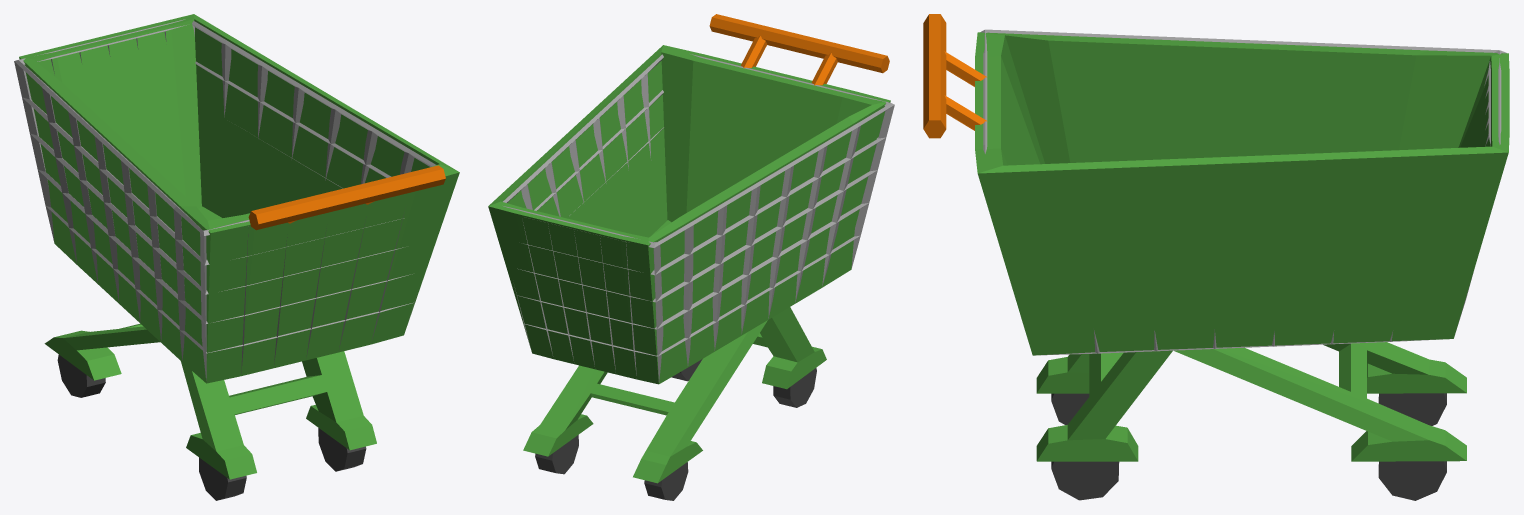
The model's file is market_arabas_revize.fbx.
3 renders of one model, left to right at view 1: azimuth 30°, elevation 25°; view 2: azimuth 150°, elevation 25°; view 3: azimuth 270°, elevation 25°, orthographic. The views are drawn at different scales.
Parts seen in each view (by area): view 1: Plane.002, Plane, Plane.001; view 2: Plane.002, Plane, Plane.001; view 3: Plane.002, Plane, Plane.001.
Part boxes in pixels (x1,y1,x2,y2): Plane.002: [19, 14, 459, 383]; Plane: [44, 165, 445, 500]; Plane.001: [14, 19, 436, 380]; Plane.002: [488, 45, 890, 384]; Plane: [523, 14, 889, 500]; Plane.001: [503, 54, 894, 382]; Plane.002: [975, 32, 1509, 355]; Plane: [923, 14, 1466, 500]; Plane.001: [980, 29, 1506, 355].
Bounding box in the file's own units: 505 × 644 × 867.
